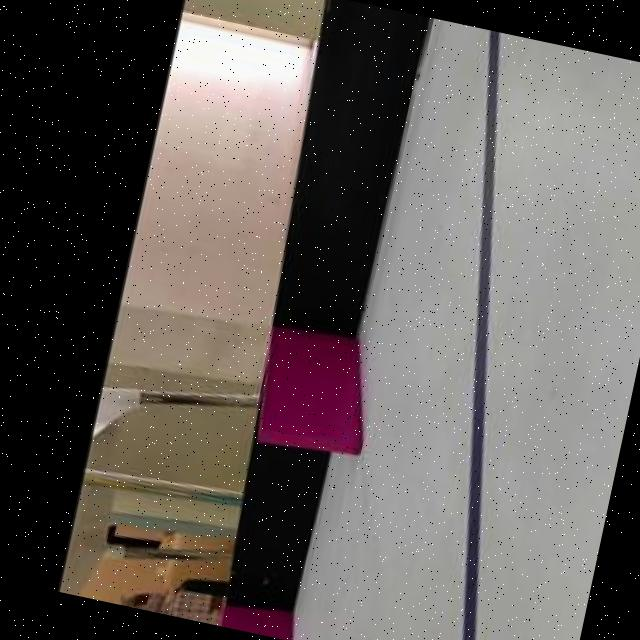xparking: (254, 333, 370, 455), (221, 607, 292, 640)
